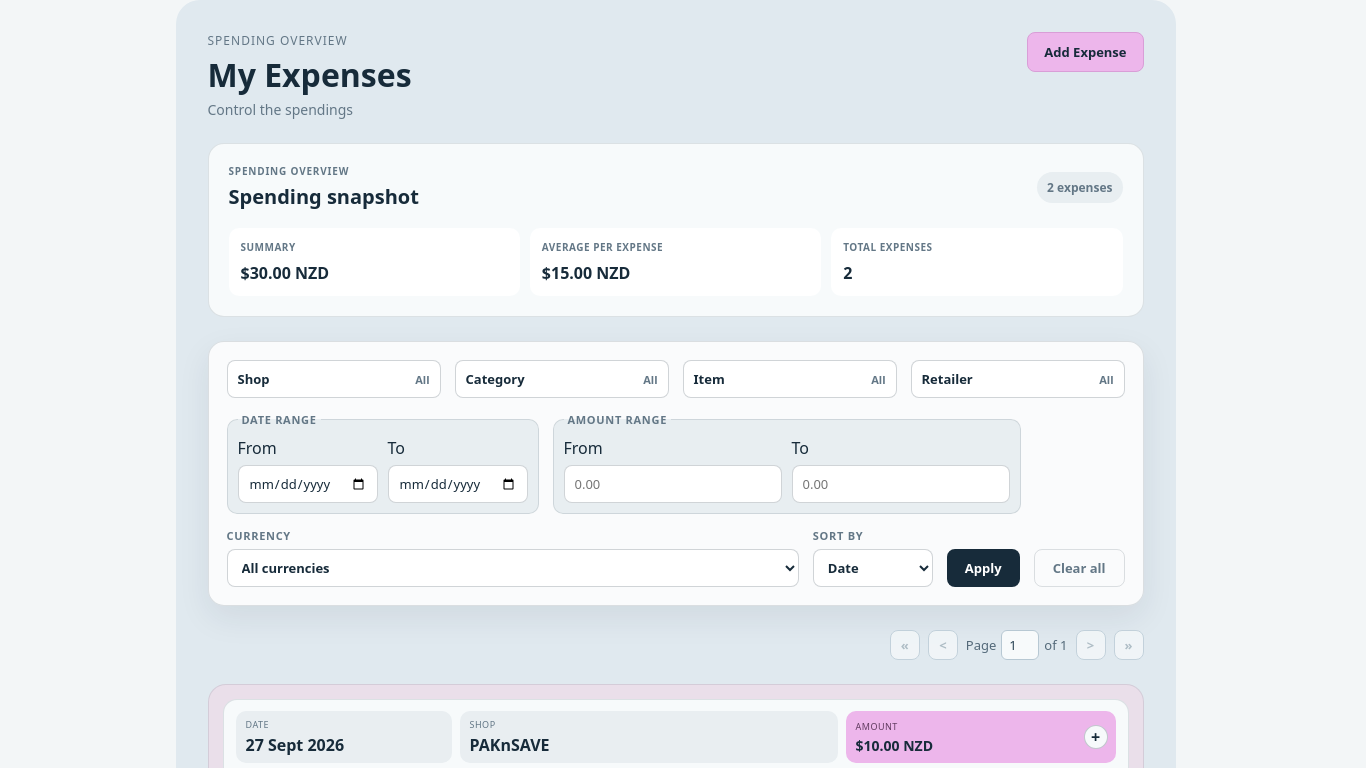
Expenses › open/close Add Expense modal when user clicks 'Add Expense'/'Cancel' button
Click the button "Add Expense": click(1085, 52) left=1027, top=32, right=1144, bottom=72
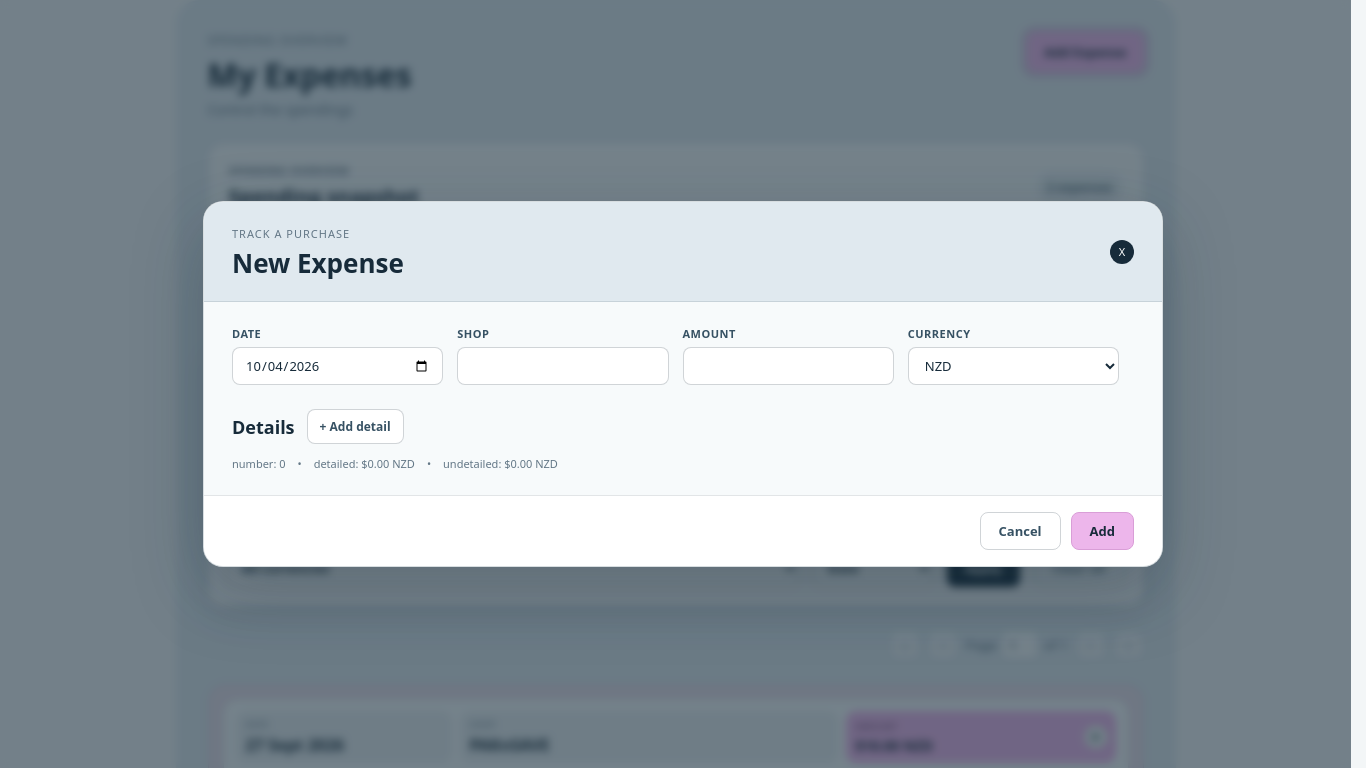
Expected: the heading "New Expense" is shown, left=232, top=249, right=404, bottom=277
Click the button "Cancel": click(1020, 531) left=980, top=512, right=1060, bottom=550
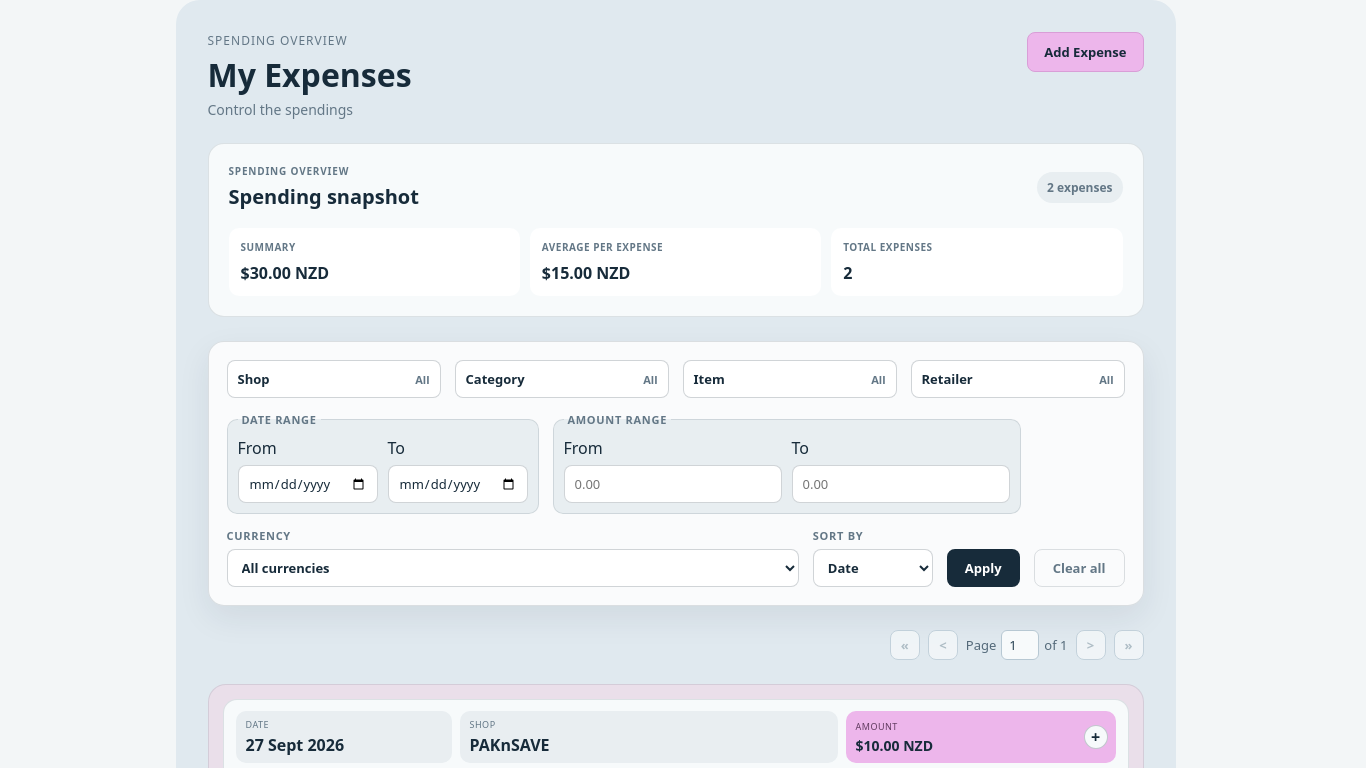
Expected: the heading "New Expense" is gone
